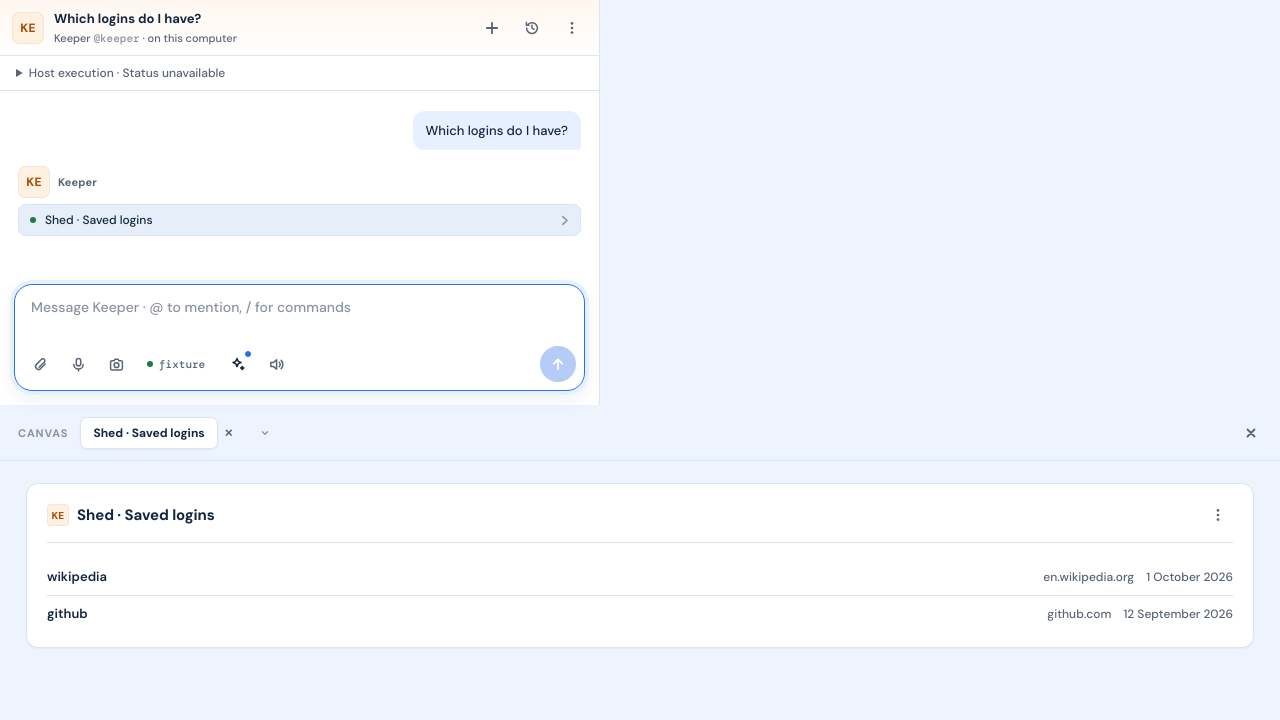
Scenario: the desktop Canvas, closed until used › counts a live page that opens behind a closed canvas
The width and height of the screenshot is (1280, 720).
Expected: the element with test id "canvas" is shown, [0,405,1279,692]
Step 1. Click the button named "Close the canvas" → click(1251, 433), box [1236,418,1266,448]
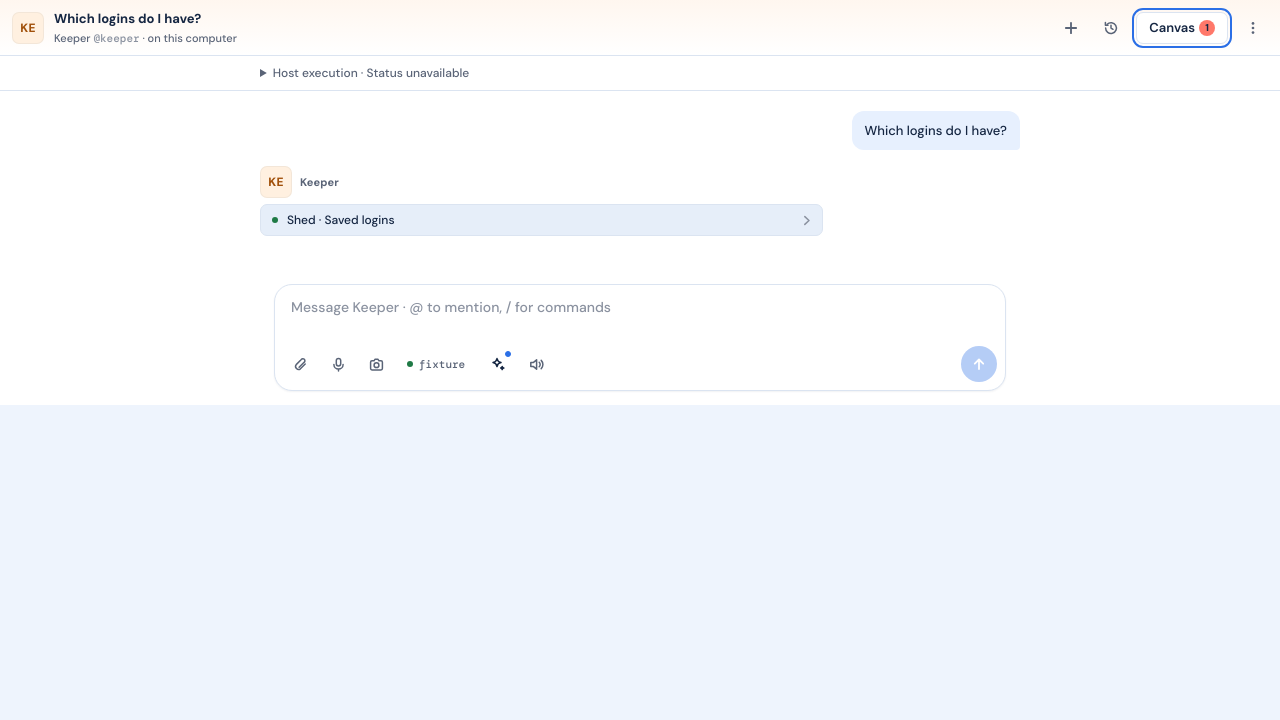
Now the button with aria-label "Open the canvas, 1 new" is shown, box [1136,12,1228,44]
Now the element with test id "canvas" is gone
